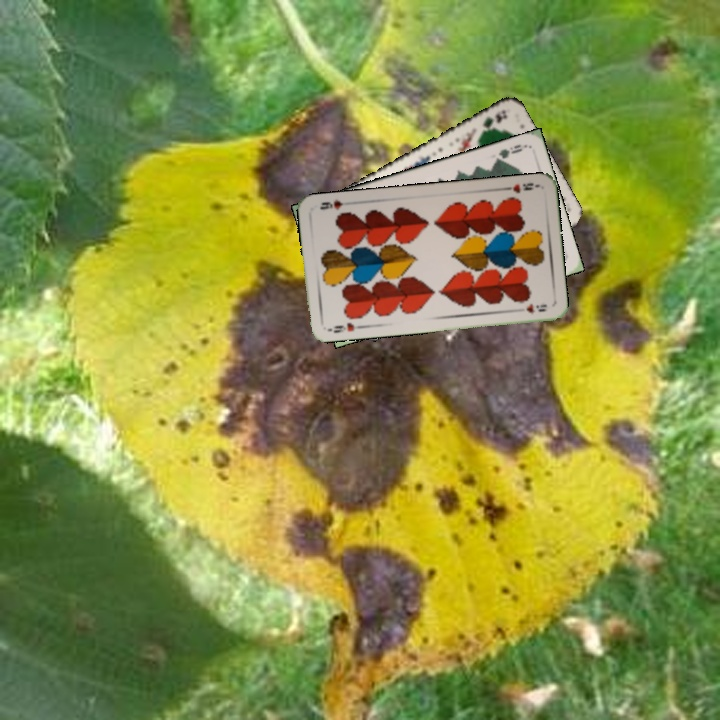G9: (491, 140, 529, 165)
GK: (475, 106, 510, 137)
H9: (500, 179, 536, 196), (330, 319, 364, 335)
